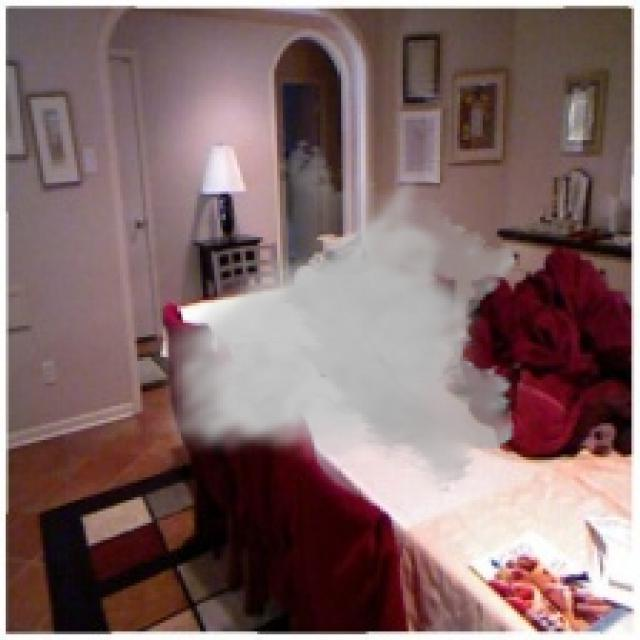Smoke: (145, 137, 526, 494)
